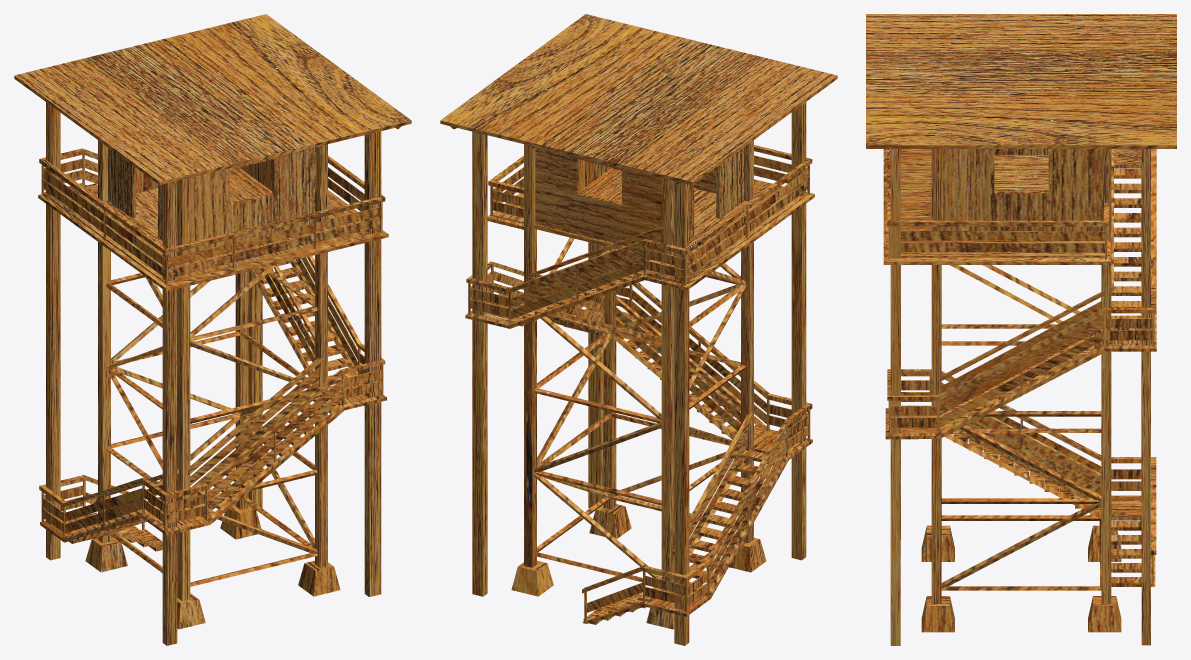
The model's file is wooden watch tower21.obj.
3 renders of one model, left to right at view 1: azimuth 30°, elevation 25°; view 2: azimuth 150°, elevation 25°; view 3: azimuth 270°, elevation 25°, orthographic. The views are drawn at different scales.
Visible parts, largest first — view 1: watchtowerHigh_watchtower; view 2: watchtowerHigh_watchtower; view 3: watchtowerHigh_watchtower.
Part boxes in pixels (x1,y1,x2,y2): watchtowerHigh_watchtower: (14, 14, 411, 645); watchtowerHigh_watchtower: (440, 14, 837, 645); watchtowerHigh_watchtower: (866, 14, 1176, 645).
Size of the model in its own units: 4.22 by 7.65 by 4.22.
